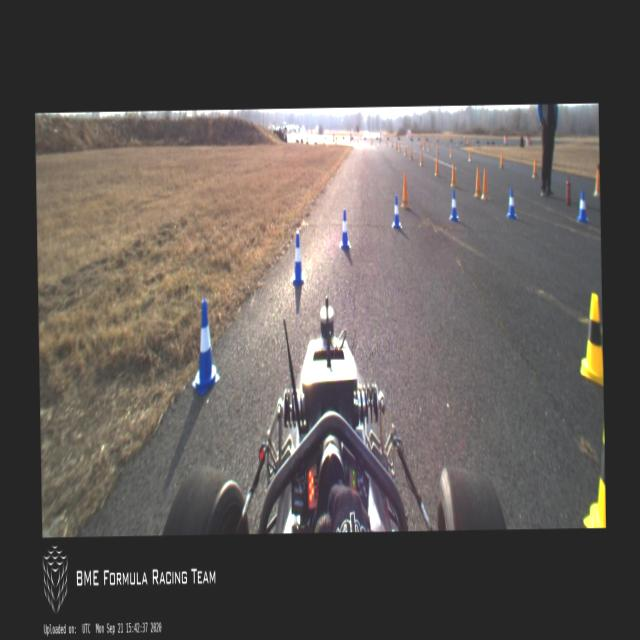blue_cone: (190, 300, 220, 396), (290, 231, 306, 285), (338, 208, 351, 248), (576, 190, 589, 223), (391, 194, 402, 230), (505, 186, 517, 218), (448, 189, 459, 222)
yellow_cone: (580, 413, 605, 528), (577, 289, 603, 388)
